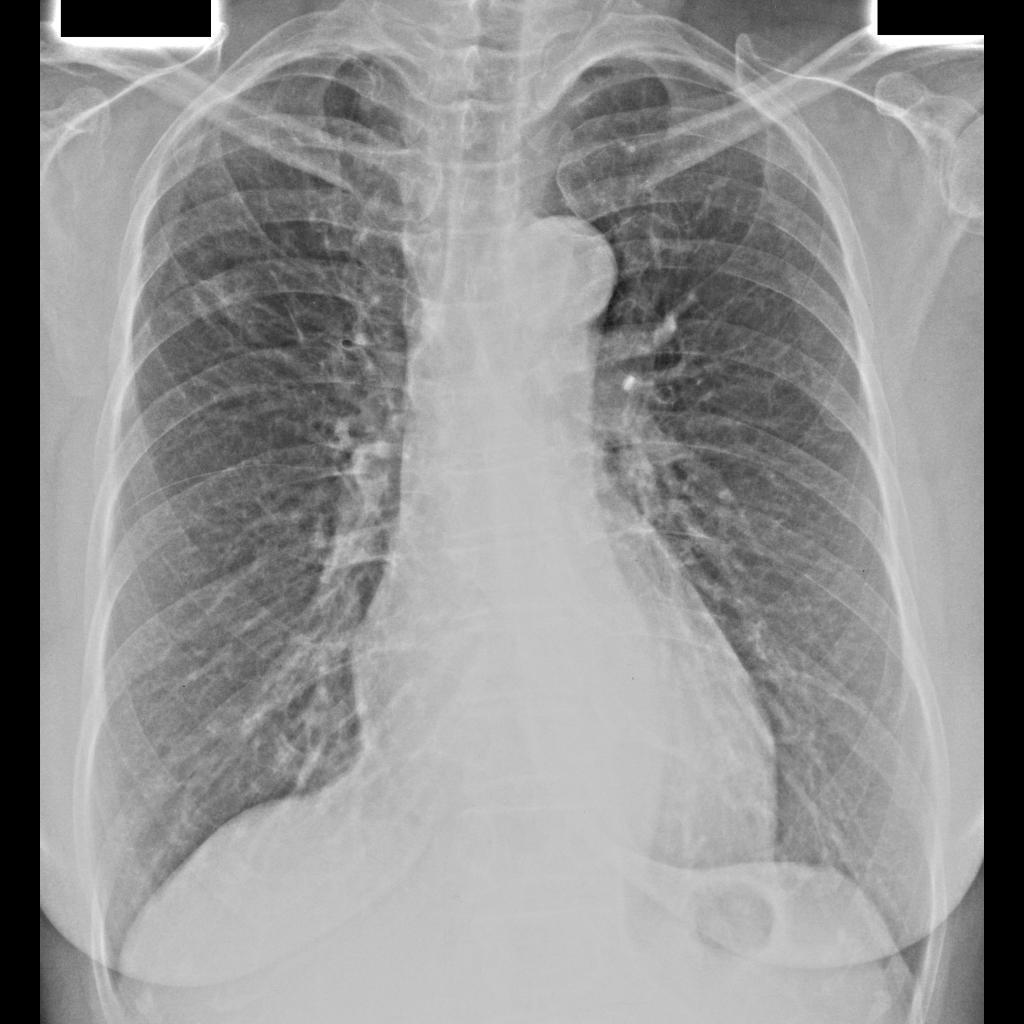Nodule: (194, 254, 278, 338)
